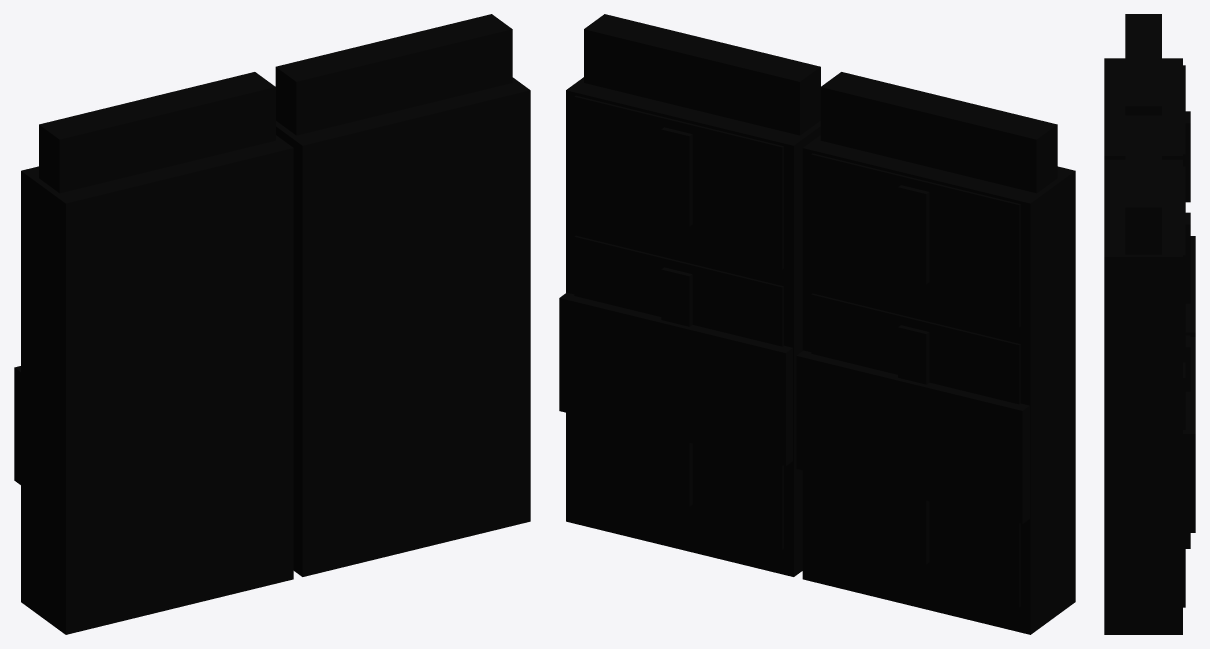
The model's file is crystal_carapace_leggings.obj.
3 renders of one model, left to right at view 1: azimuth 30°, elevation 25°; view 2: azimuth 150°, elevation 25°; view 3: azimuth 270°, elevation 25°, orthographic. The views are drawn at different scales.
Bounding box in the file's own units: 0.875 × 0.8726 × 0.1702.
